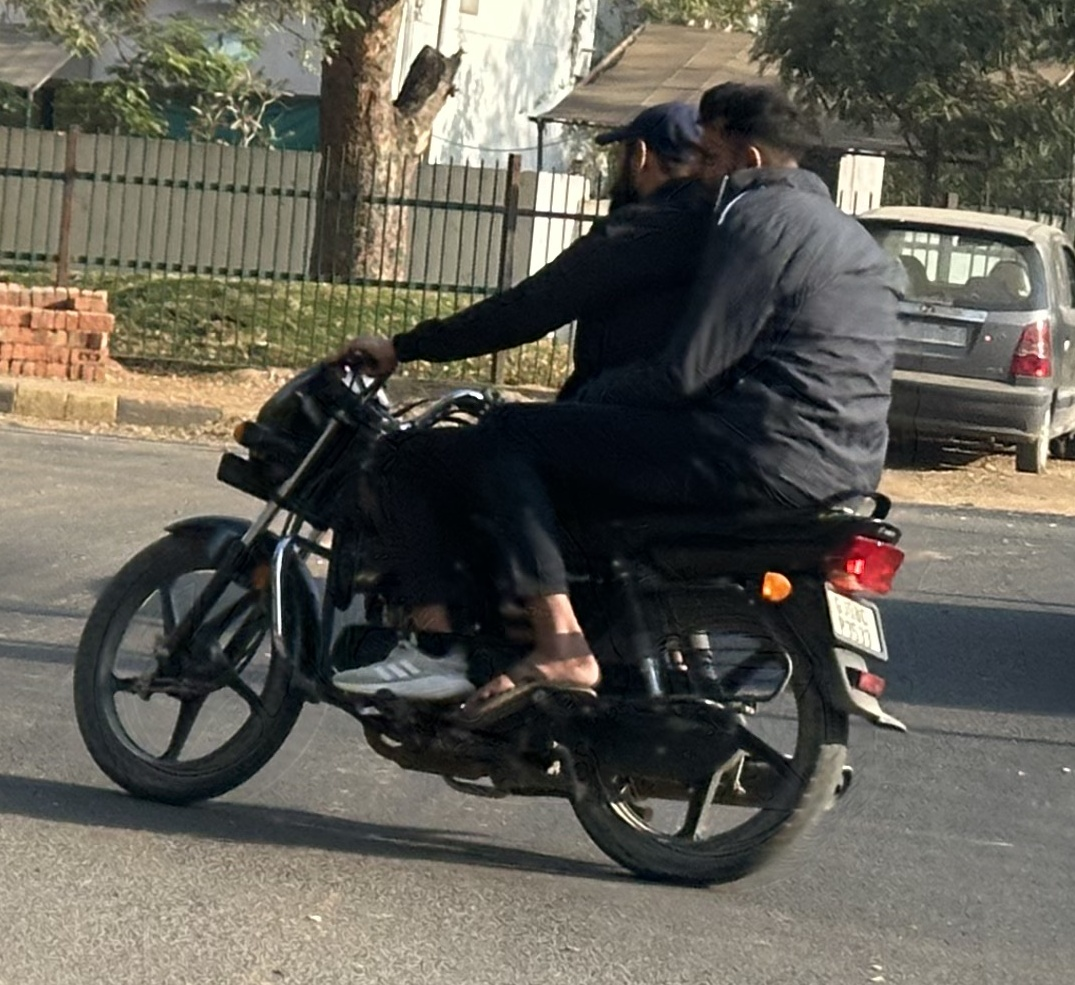BikeWithRider: (52, 68, 925, 915)
NoHelmet: (686, 83, 827, 203), (596, 88, 701, 216)
